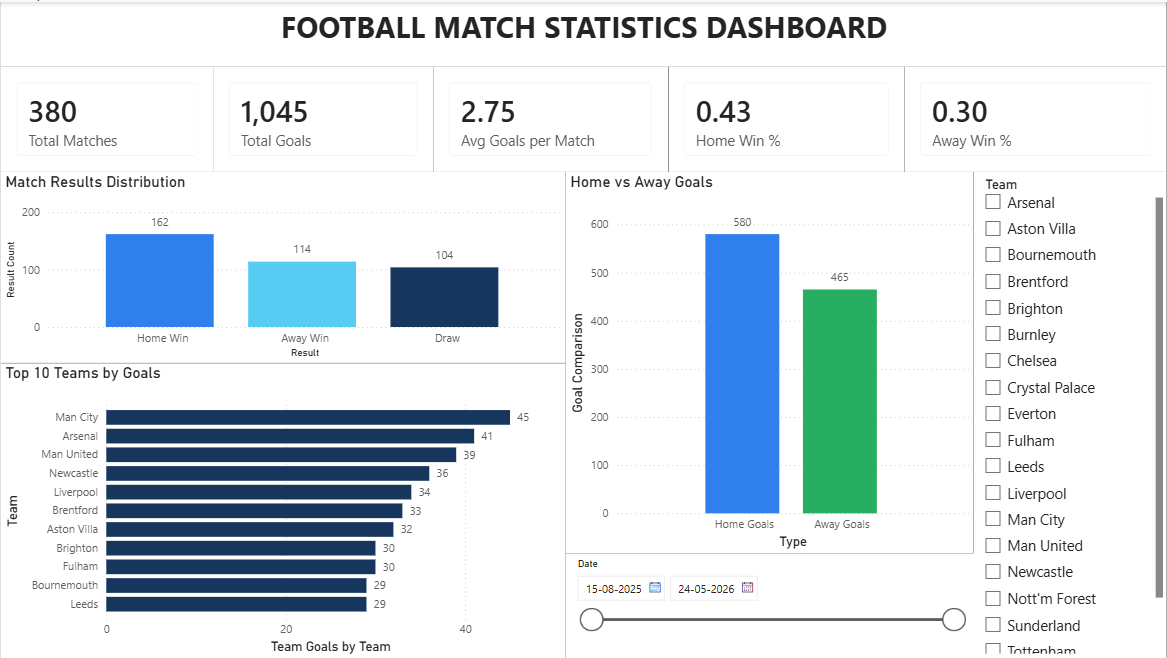

The page's visual inventory and layout, read from the dashboard file:
{"tool":"powerbi","page":{"name":"Page 1","canvas":[1280,720],"ordinal":0},"visuals":[{"type":"cardVisual","fields":{"Data":["E0_2025-26.Total Matches"]},"box":[0,71.4,233.3,115.3],"z":0},{"type":"cardVisual","fields":{"Data":["E0_2025-26.Total Goals Exact"]},"box":[233.3,71.4,241.5,115.3],"z":1},{"type":"cardVisual","fields":{"Data":["E0_2025-26.Avg Goals per Match"]},"box":[474.8,71.4,258,115.3],"z":2},{"type":"clusteredColumnChart","title":"Match Results Distribution","fields":{"Category":["MatchResults.Result"],"Y":["E0_2025-26.Result Count"]},"box":[0,186.6,620.2,209.9],"z":4},{"type":"clusteredBarChart","title":"Top 10 Teams by Goals","fields":{"Category":["Teams.Team"],"Y":["E0_2025-26.Team Goals by Team"]},"box":[0,396.6,620.2,323.8],"z":5},{"type":"clusteredColumnChart","title":"Home vs Away Goals","fields":{"Category":["GoalType.Type"],"Y":["E0_2025-26.Goal Comparison"]},"box":[620.2,186.6,447.3,418.5],"z":6},{"type":"slicer","fields":{"Values":["Teams.Team"]},"box":[1067.6,186.6,212.7,533.8],"z":7},{"type":"slicer","fields":{"Values":["E0_2025-26.Date"]},"box":[620.2,605.1,447.3,115.3],"z":8},{"type":"textbox","box":[0,0,1280.3,71.4],"z":12},{"type":"cardVisual","fields":{"Data":["E0_2025-26.Home Win %"]},"box":[732.8,71.4,259.3,115.3],"z":13},{"type":"cardVisual","fields":{"Data":["E0_2025-26.Away Win %"]},"box":[992.1,71.4,288.2,115.3],"z":14}]}

Visuals, with their boxes in screenshot pixels (x1, y1, x2, y2), scaled from the page's 1280x720 canvas onto the 1167x658 screenshot:
cardVisual - E0_2025-26.Total Matches: pyautogui.locateOnScreen(0, 65, 213, 171)
cardVisual - E0_2025-26.Total Goals Exact: pyautogui.locateOnScreen(213, 65, 433, 171)
cardVisual - E0_2025-26.Avg Goals per Match: pyautogui.locateOnScreen(433, 65, 668, 171)
"Match Results Distribution" clusteredColumnChart: pyautogui.locateOnScreen(0, 171, 565, 362)
"Top 10 Teams by Goals" clusteredBarChart: pyautogui.locateOnScreen(0, 362, 565, 657)
"Home vs Away Goals" clusteredColumnChart: pyautogui.locateOnScreen(565, 171, 973, 553)
slicer - Teams.Team: pyautogui.locateOnScreen(973, 171, 1166, 657)
slicer - E0_2025-26.Date: pyautogui.locateOnScreen(565, 553, 973, 657)
textbox: pyautogui.locateOnScreen(0, 0, 1166, 65)
cardVisual - E0_2025-26.Home Win %: pyautogui.locateOnScreen(668, 65, 905, 171)
cardVisual - E0_2025-26.Away Win %: pyautogui.locateOnScreen(905, 65, 1166, 171)
